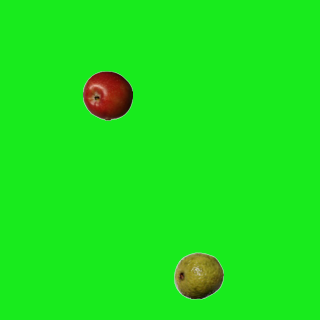Apple Braeburn: (82, 70, 132, 120)
Guava: (173, 250, 223, 300)
